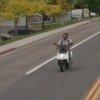Motorcycle: (47, 31, 78, 75)
